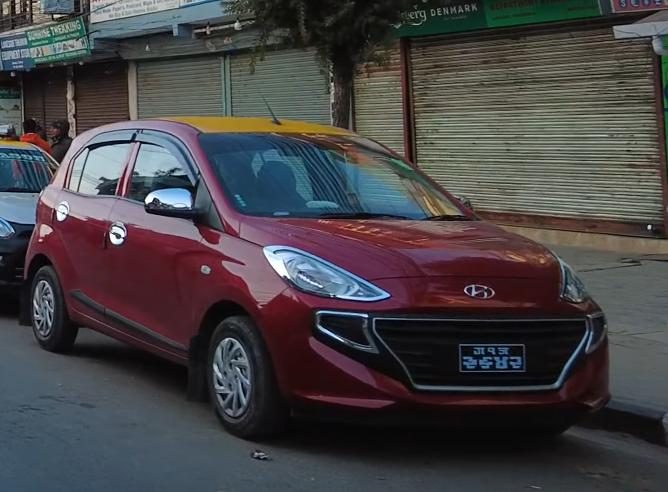bus: (0, 131, 77, 312)
taxi: (18, 107, 616, 452)
